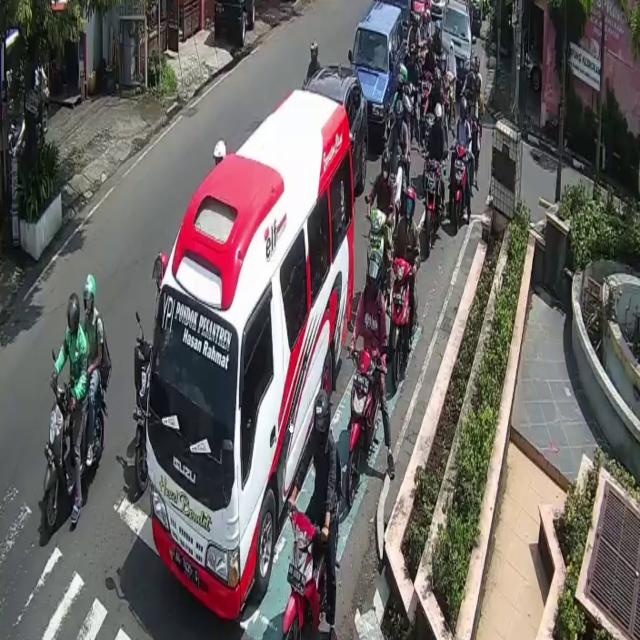bus: (150, 90, 356, 619)
car: (351, 0, 407, 144), (312, 62, 370, 184), (438, 0, 474, 94)
motorbike: (42, 376, 108, 534), (285, 501, 332, 640), (349, 347, 380, 502), (363, 209, 390, 312), (394, 252, 411, 387), (425, 158, 443, 261), (452, 143, 468, 227)
